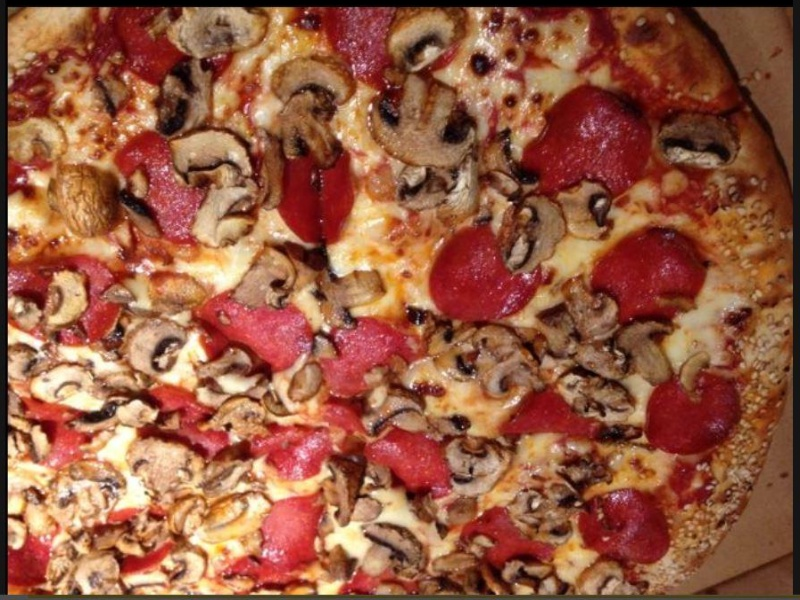champignon: (364, 69, 481, 175), (649, 105, 745, 177), (119, 316, 189, 379)
